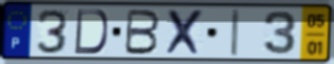3: (261, 10, 300, 58), (36, 7, 70, 55)
B: (122, 8, 162, 56)
D: (72, 8, 110, 56)
I: (229, 8, 241, 59)
X: (163, 8, 207, 58)
